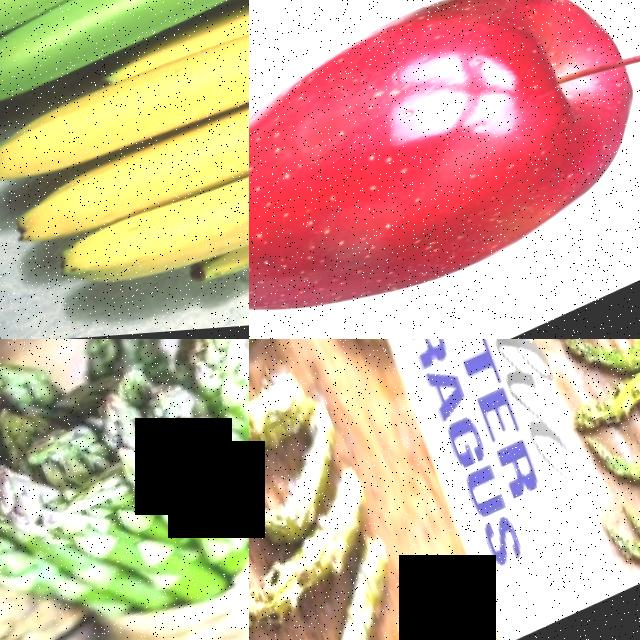apple: (249, 0, 640, 339)
asparagus: (0, 439, 110, 638), (106, 422, 219, 597), (249, 522, 374, 637), (249, 432, 356, 552), (169, 339, 249, 494), (561, 340, 640, 444), (249, 369, 311, 471), (588, 401, 640, 494), (561, 339, 640, 388)
banana: (0, 0, 249, 339), (0, 0, 249, 136)
